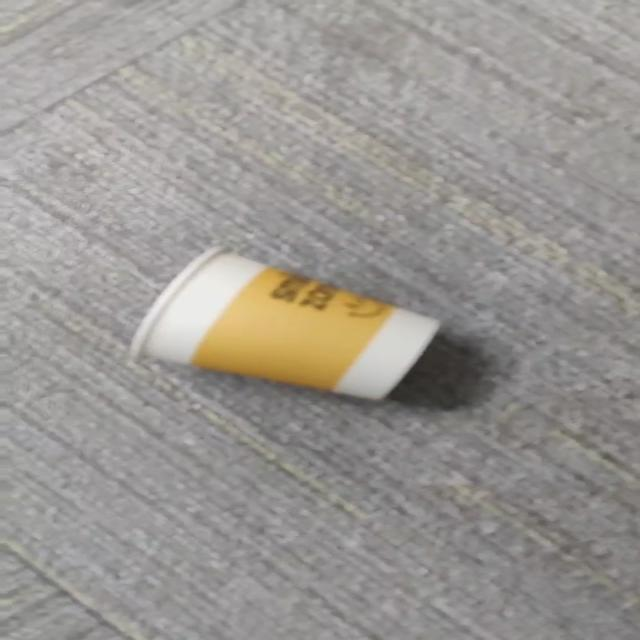dixie_cup: (132, 253, 437, 399)
